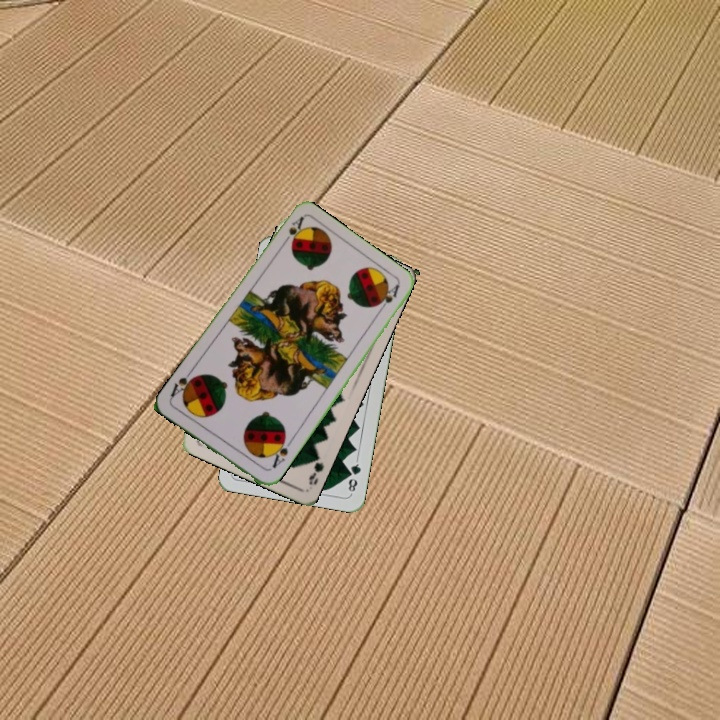G8: (344, 456, 364, 496)
G9: (305, 449, 327, 487)
SA: (277, 213, 306, 249), (267, 433, 294, 471)
